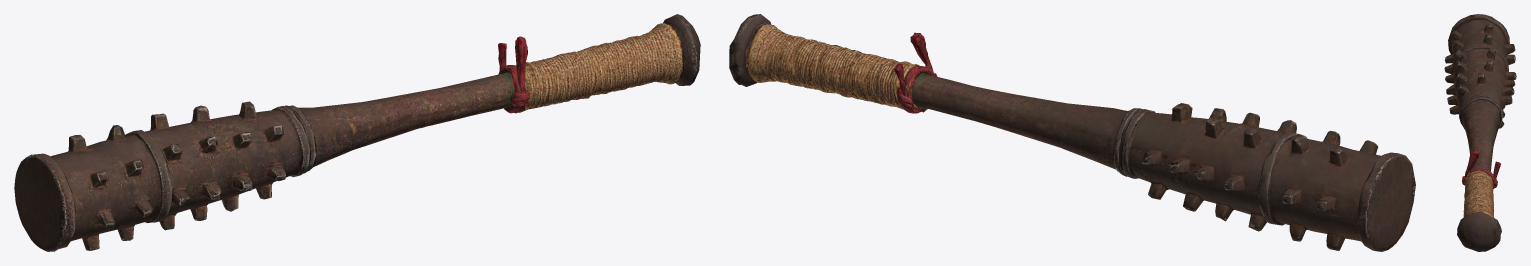
File: kanabo.glb
3 renders of one model, left to right at view 1: azimuth 30°, elevation 25°; view 2: azimuth 150°, elevation 25°; view 3: azimuth 270°, elevation 25°, orthographic. The views are drawn at different scales.
Parts seen in each view (by area): view 1: _MeshInstance3D_72; view 2: _MeshInstance3D_72; view 3: _MeshInstance3D_72.
Part boxes in pixels (box(x1,y1,x2,y2)): _MeshInstance3D_72: box(14, 14, 700, 251); _MeshInstance3D_72: box(729, 14, 1415, 251); _MeshInstance3D_72: box(1444, 14, 1516, 251).
Size of the model in its own units: 1.09 by 0.1637 by 0.1718.
1 material, 1 textured.
